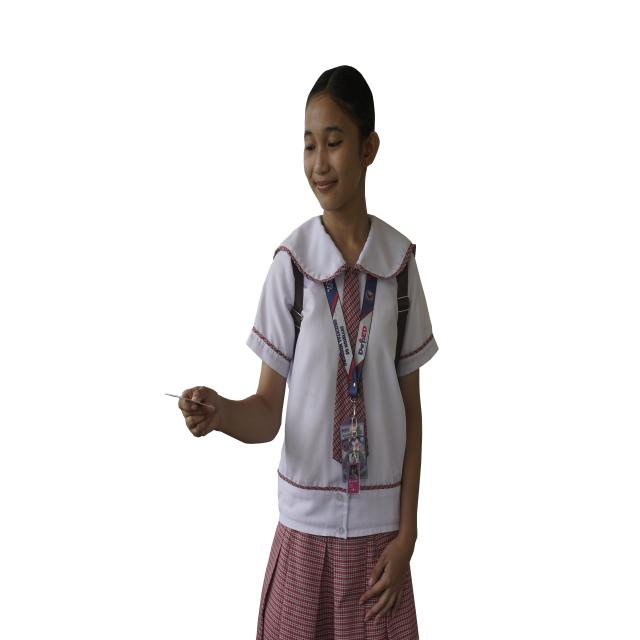id lace: (324, 277, 377, 399)
pologirl: (247, 216, 438, 538), (332, 357, 355, 461), (340, 268, 365, 355), (356, 379, 366, 427)
skirt: (256, 523, 418, 640)
